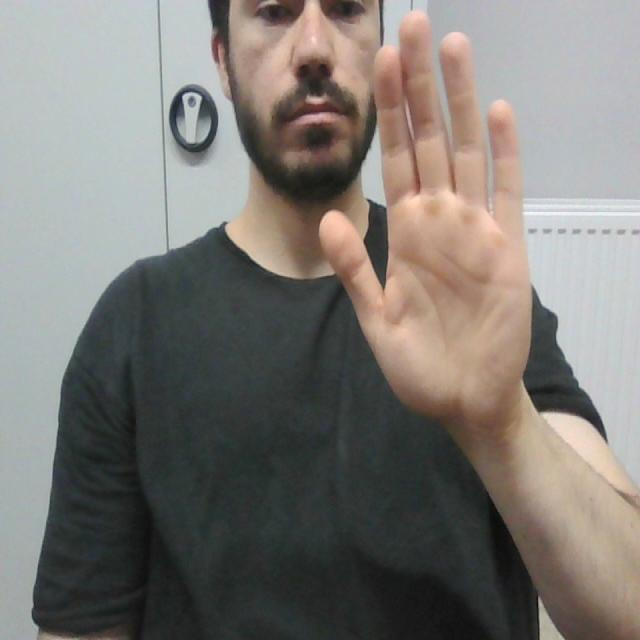Dur: (305, 10, 541, 422)
